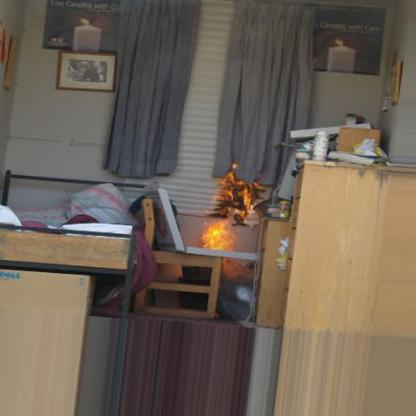fire: (201, 150, 267, 258)
